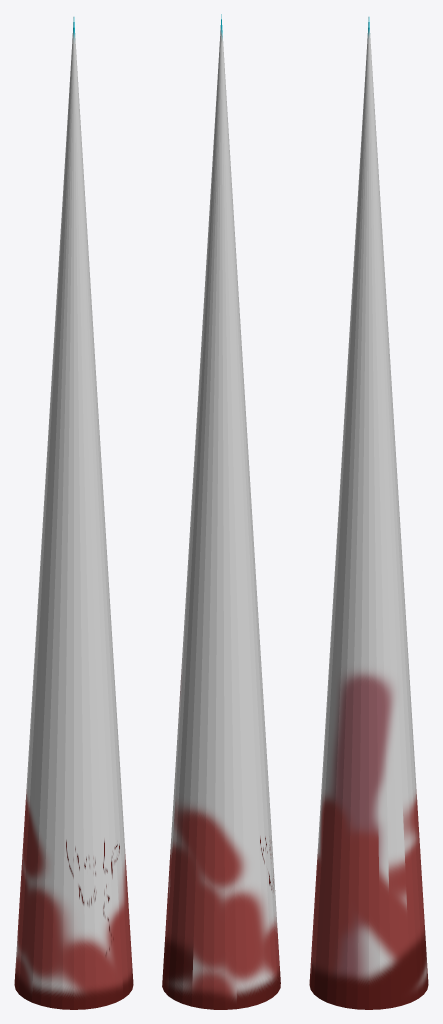
The picture shows the model from 3 angles, left to right: view 1: azimuth 90°, elevation 25°; view 2: azimuth 150°, elevation 25°; view 3: azimuth 270°, elevation 25°; orthographic projection.
Parts seen in each view (by area): view 1: Cone; view 2: Cone; view 3: Cone.
Boxes of the visible parts, x1,y1,x2,y2 form: Cone: [14, 17, 133, 1009]; Cone: [162, 14, 280, 1009]; Cone: [309, 17, 428, 1009].
Bounding box in the file's own units: 2 × 18 × 2.
1 material, 1 textured.
